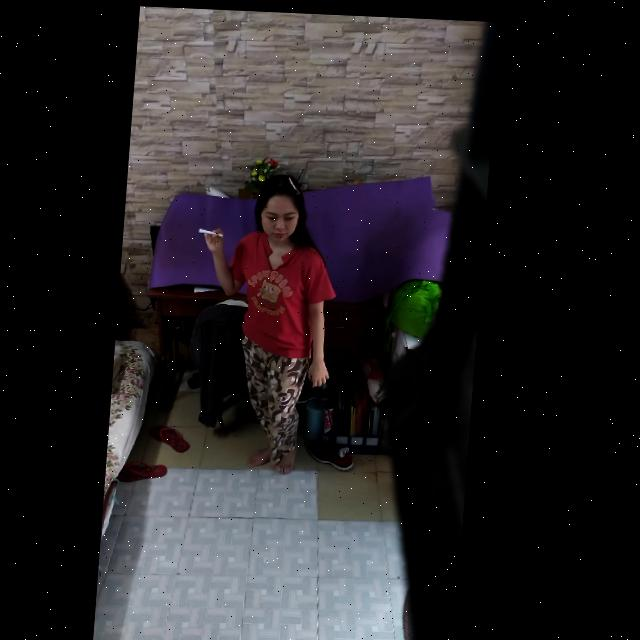cigarette: (202, 227, 226, 235)
